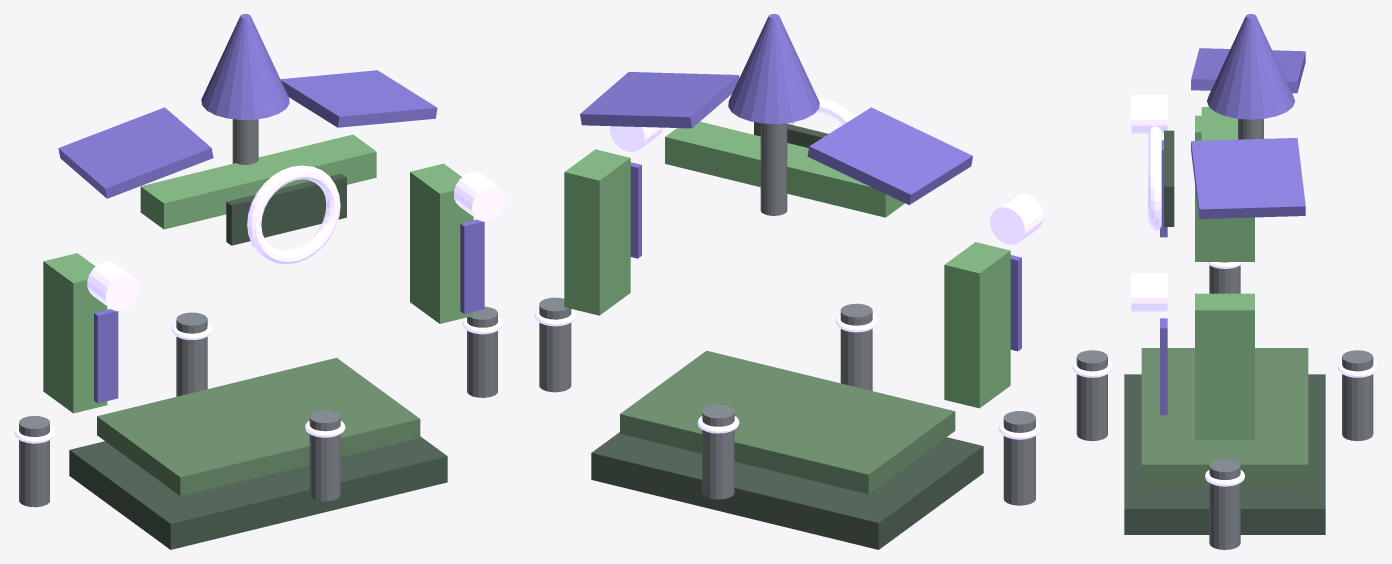
The model's file is asset.glb.
3 views of the same model, side by side, from view 1: azimuth 30°, elevation 25°; view 2: azimuth 150°, elevation 25°; view 3: azimuth 270°, elevation 25° (orthographic). The views are drawn at different scales.
Parts seen in each view (by area): view 1: RaisedDeck, Foundation, CrossBeam, CanopyWing_-1, Pylon_-1, Pylon_1, CanopyWing_1, TopMarker, SignPanel, IdentityRing, Bollard_3, Bollard_2 (+7 smaller); view 2: RaisedDeck, Foundation, Pylon_1, Pylon_-1, CanopyWing_-1, CrossBeam, CanopyWing_1, TopMarker, Bollard_2, Bollard_1, Bollard_0, CenterMast (+6 smaller); view 3: RaisedDeck, Foundation, Pylon_1, CanopyWing_1, TopMarker, Bollard_1, Bollard_3, Bollard_0, CanopyWing_-1, Pylon_-1, CrossBeam, Lamp_1 (+6 smaller).
Part boxes in pixels (x1=…): RaisedDeck: x1=97, y1=358, x2=420, y2=496; Foundation: x1=69, y1=436, x2=447, y2=549; CrossBeam: x1=140, y1=134, x2=376, y2=229; CanopyWing_-1: x1=58, y1=107, x2=213, y2=198; Pylon_-1: x1=43, y1=253, x2=107, y2=413; Pylon_1: x1=410, y1=163, x2=473, y2=323; CanopyWing_1: x1=280, y1=70, x2=437, y2=127; TopMarker: x1=201, y1=14, x2=289, y2=119; SignPanel: x1=226, y1=173, x2=346, y2=245; IdentityRing: x1=247, y1=165, x2=340, y2=264; Bollard_3: x1=309, y1=410, x2=340, y2=501; Bollard_2: x1=19, y1=416, x2=49, y2=507; RaisedDeck: x1=620, y1=350, x2=955, y2=494; Foundation: x1=591, y1=432, x2=983, y2=549; Pylon_1: x1=564, y1=149, x2=630, y2=315; Pylon_-1: x1=944, y1=242, x2=1010, y2=408; CanopyWing_-1: x1=807, y1=107, x2=972, y2=204; CrossBeam: x1=665, y1=121, x2=904, y2=217; CanopyWing_1: x1=580, y1=72, x2=739, y2=128; TopMarker: x1=728, y1=14, x2=819, y2=123; Bollard_2: x1=1003, y1=411, x2=1035, y2=505; Bollard_1: x1=702, y1=405, x2=734, y2=499; Bollard_0: x1=539, y1=297, x2=571, y2=392; CenterMast: x1=760, y1=123, x2=787, y2=215; RaisedDeck: x1=1141, y1=348, x2=1308, y2=483; Foundation: x1=1124, y1=374, x2=1325, y2=534; Pylon_1: x1=1195, y1=293, x2=1254, y2=439; CanopyWing_1: x1=1191, y1=138, x2=1305, y2=218; TopMarker: x1=1207, y1=14, x2=1294, y2=119; Bollard_1: x1=1342, y1=350, x2=1373, y2=441; Bollard_3: x1=1076, y1=350, x2=1107, y2=441; Bollard_0: x1=1209, y1=459, x2=1240, y2=549; CanopyWing_-1: x1=1191, y1=48, x2=1305, y2=93; Pylon_-1: x1=1195, y1=115, x2=1254, y2=261; CrossBeam: x1=1201, y1=107, x2=1248, y2=236; Lamp_1: x1=1131, y1=273, x2=1167, y2=311.
Size of the model in its own units: 4.27 by 3.83 by 2.35.
